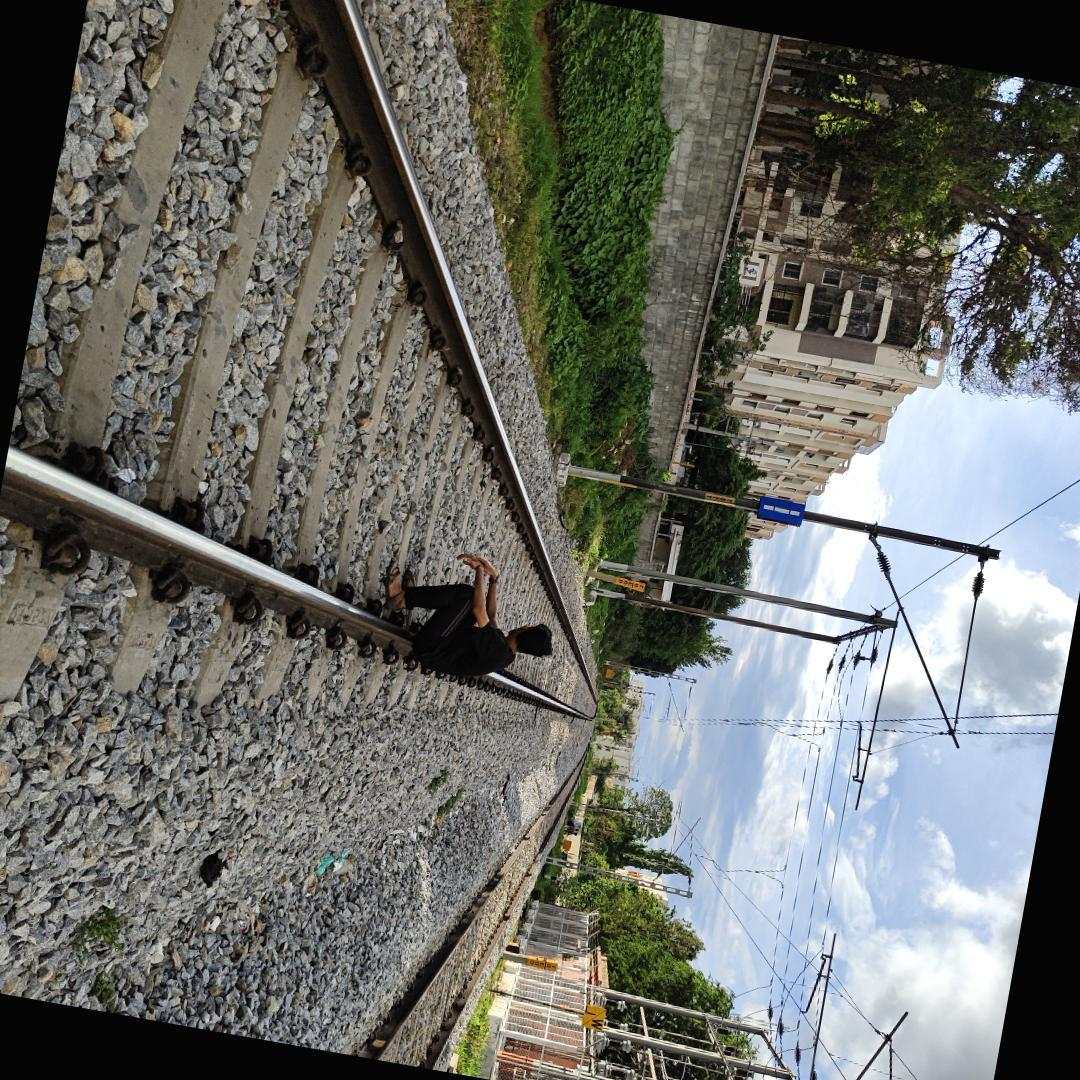sitting: (369, 544, 558, 685)
